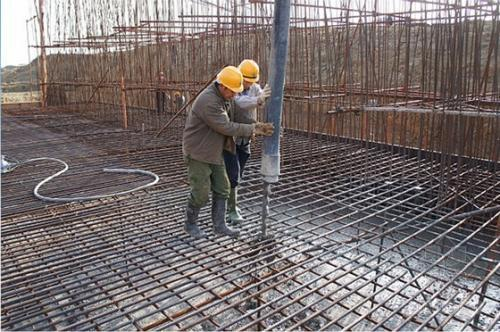helmet: (233, 57, 262, 92), (216, 64, 245, 96)
